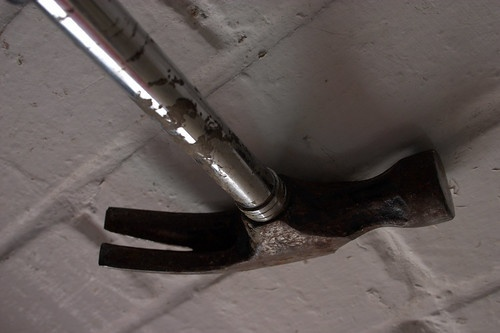hammer: (1, 2, 455, 280)
